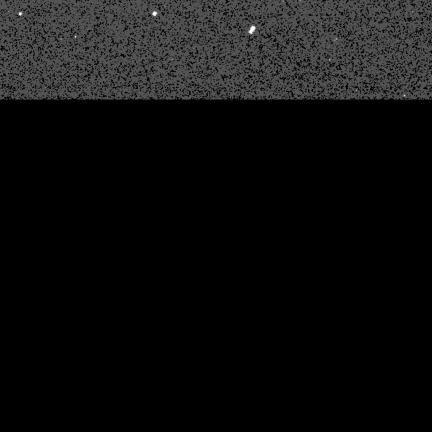blob: (249, 26, 255, 34), (152, 12, 157, 16), (19, 12, 22, 16)
